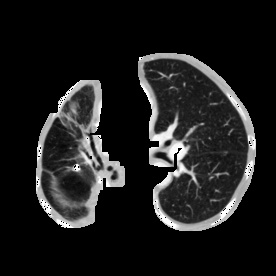PN: (72, 163, 80, 171)
